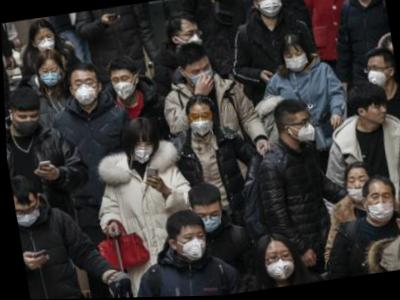NONE: (366, 100, 390, 128)
OK: (174, 229, 209, 266), (263, 247, 296, 284), (193, 206, 226, 238), (72, 74, 100, 107), (11, 109, 42, 138), (187, 108, 216, 139), (14, 199, 43, 229), (109, 72, 138, 102), (186, 62, 216, 91), (283, 49, 311, 77), (178, 25, 207, 52), (365, 62, 391, 92), (293, 114, 319, 144), (129, 137, 155, 166), (35, 61, 62, 87), (258, 1, 288, 23), (35, 30, 57, 54)
WRONG: (363, 189, 396, 228), (344, 173, 371, 208)
